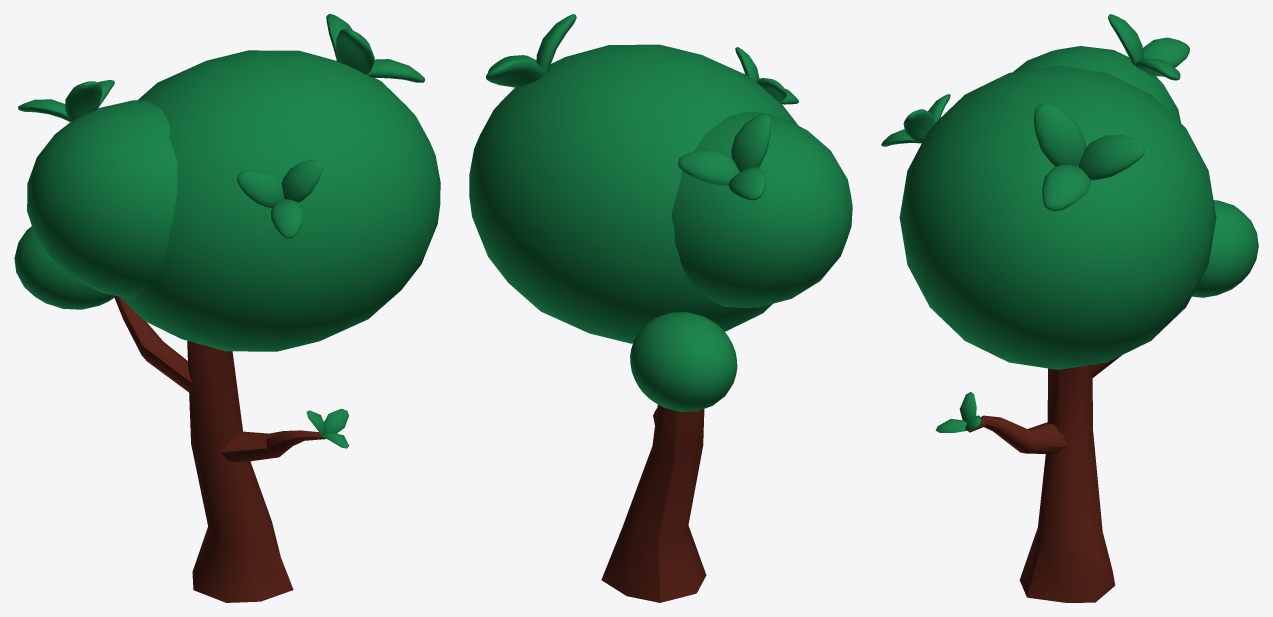
The model's file is treeA.obj.
The picture shows the model from 3 angles, left to right: view 1: azimuth 30°, elevation 25°; view 2: azimuth 150°, elevation 25°; view 3: azimuth 270°, elevation 25°; orthographic projection. The views are drawn at different scales.
Parts seen in each view (by area): view 1: treeA_Cylinder.258; view 2: treeA_Cylinder.258; view 3: treeA_Cylinder.258.
Part boxes in pixels (<box>): treeA_Cylinder.258: <box>14,14,440,602</box>; treeA_Cylinder.258: <box>469,14,852,602</box>; treeA_Cylinder.258: <box>881,14,1258,602</box>.
Bounding box in the file's own units: 2.66 × 3.7 × 2.41.
